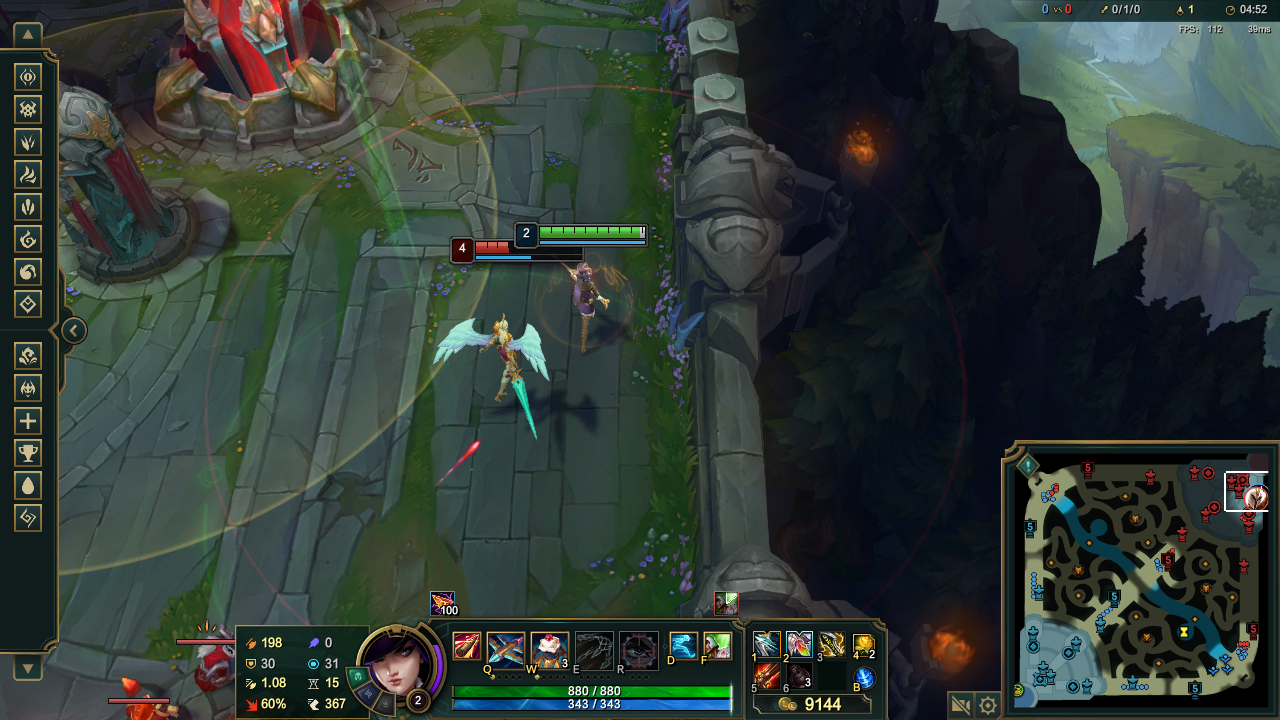DFDSJ: (180, 17, 358, 124)
DFFYT: (57, 104, 208, 266)
DFYX: (475, 236, 517, 254)
